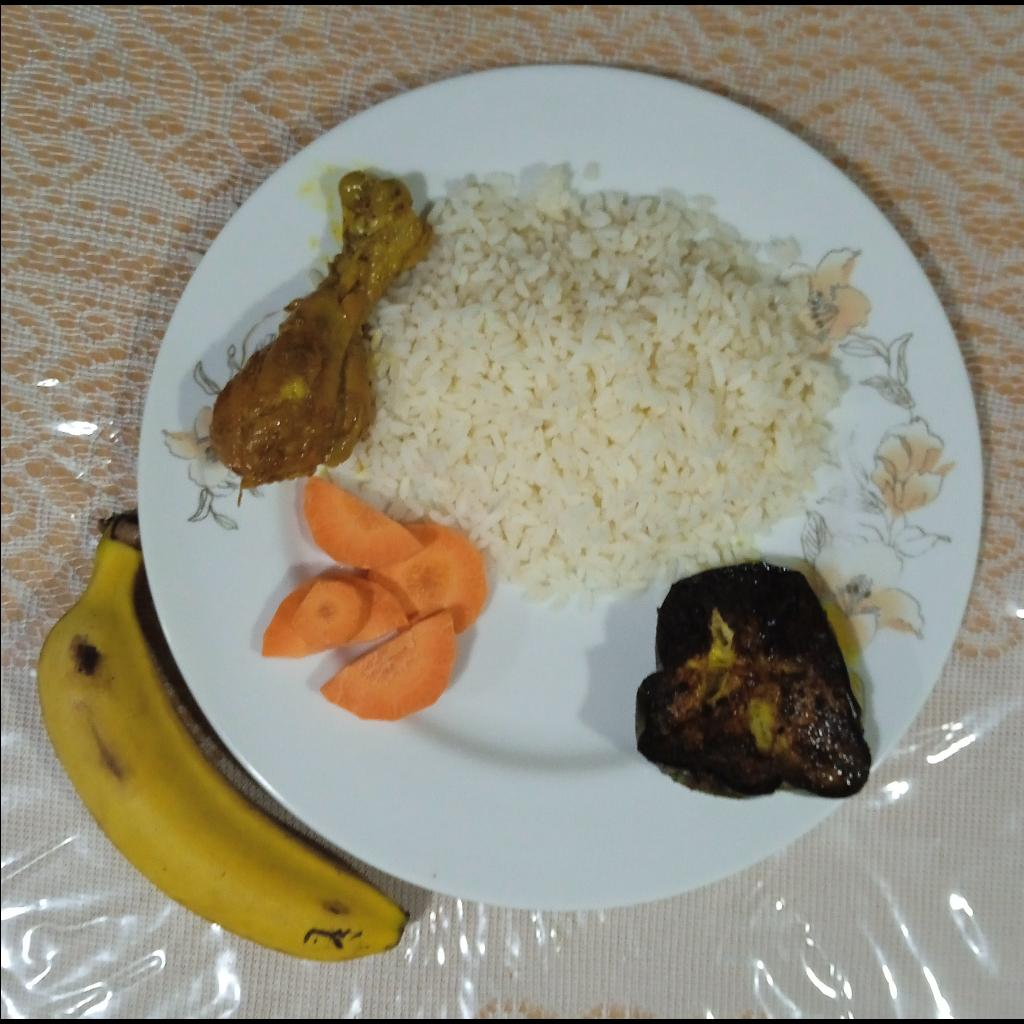banana: (36, 506, 409, 964)
begun-vaji: (635, 561, 875, 802)
carrot: (261, 479, 487, 723)
chicken: (206, 173, 436, 491)
rice: (345, 165, 837, 613)
